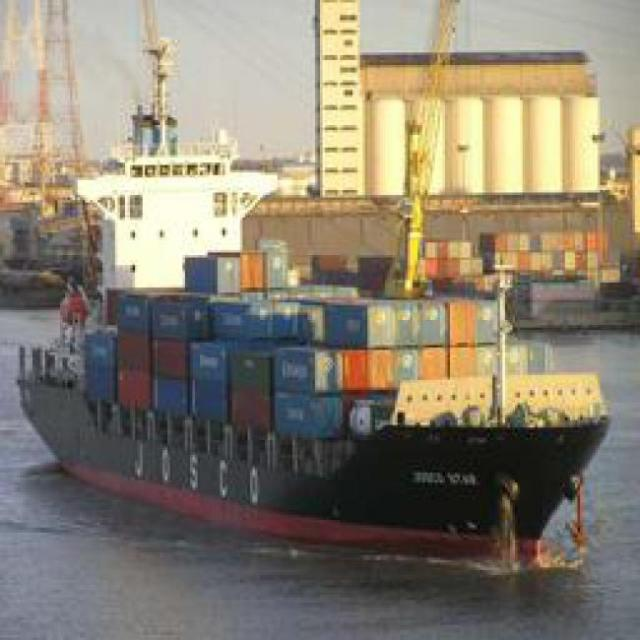boat: (2, 205, 610, 565)
